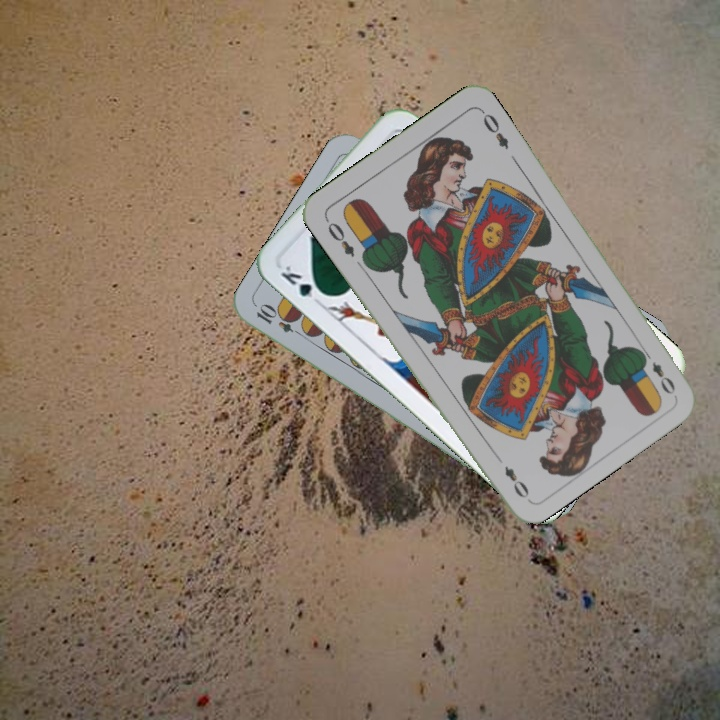E10: (252, 301, 308, 340)
EO: (637, 345, 678, 397), (321, 215, 357, 260)
GK: (276, 261, 329, 303)
